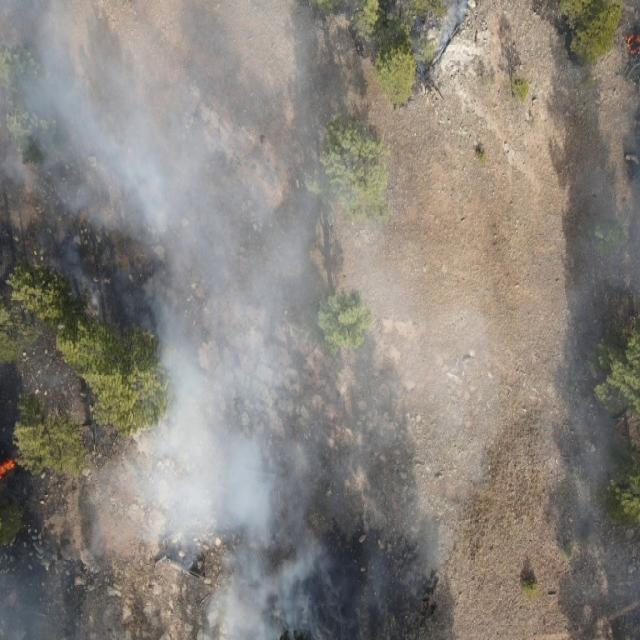fire: (0, 452, 25, 478), (623, 32, 640, 56)
smoke: (0, 0, 416, 640), (578, 169, 640, 640), (416, 298, 469, 582), (469, 308, 511, 488), (547, 287, 578, 505), (429, 0, 480, 75)
